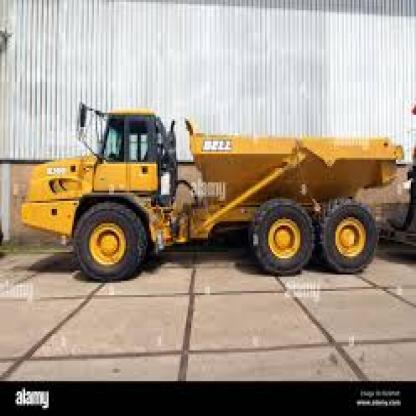dump_truck: (17, 92, 396, 297)
